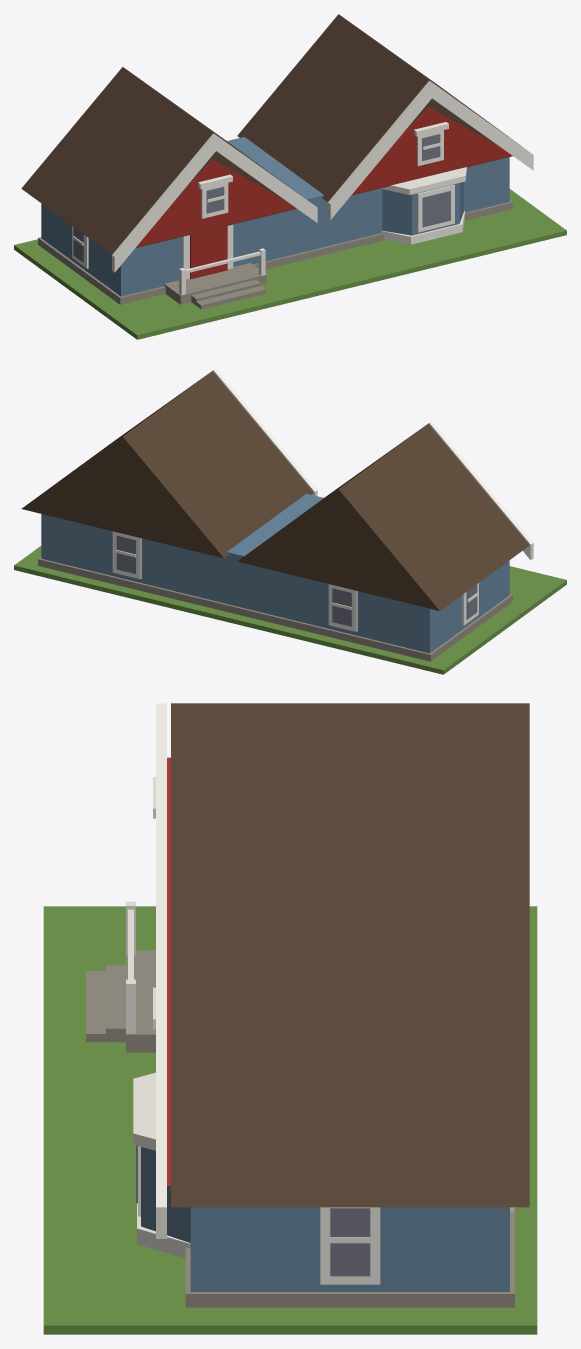
File: house-2x1-1f-victorian-a.glb
3 renders of one model, top to bottom at view 1: azimuth 30°, elevation 25°; view 2: azimuth 150°, elevation 25°; view 3: azimuth 270°, elevation 25°, orthographic. The views are drawn at different scales.
Visible parts, largest first — view 1: house-2x1-1f-victorian-a; view 2: house-2x1-1f-victorian-a; view 3: house-2x1-1f-victorian-a.
Part boxes in pixels (x1,y1,x2,y2): house-2x1-1f-victorian-a: [14, 14, 566, 339]; house-2x1-1f-victorian-a: [14, 368, 566, 674]; house-2x1-1f-victorian-a: [43, 703, 537, 1334].
Size of the model in its own units: 1.99 by 0.7 by 0.99.
1 material, 1 textured.
